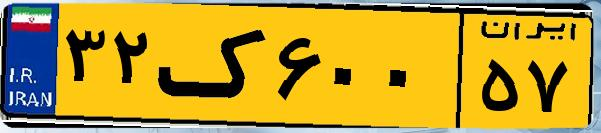0: (385, 28, 445, 110), (330, 28, 385, 110)
2: (110, 28, 158, 98)
3: (57, 26, 110, 100)
5: (475, 38, 525, 113)
6: (270, 28, 330, 110)
7: (525, 38, 570, 115)
ک: (158, 12, 270, 120)
